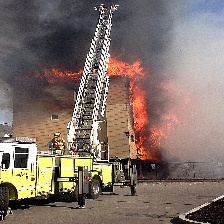fire: (130, 78, 180, 162), (46, 56, 145, 85)
smoke: (1, 1, 187, 58), (179, 7, 224, 162)
